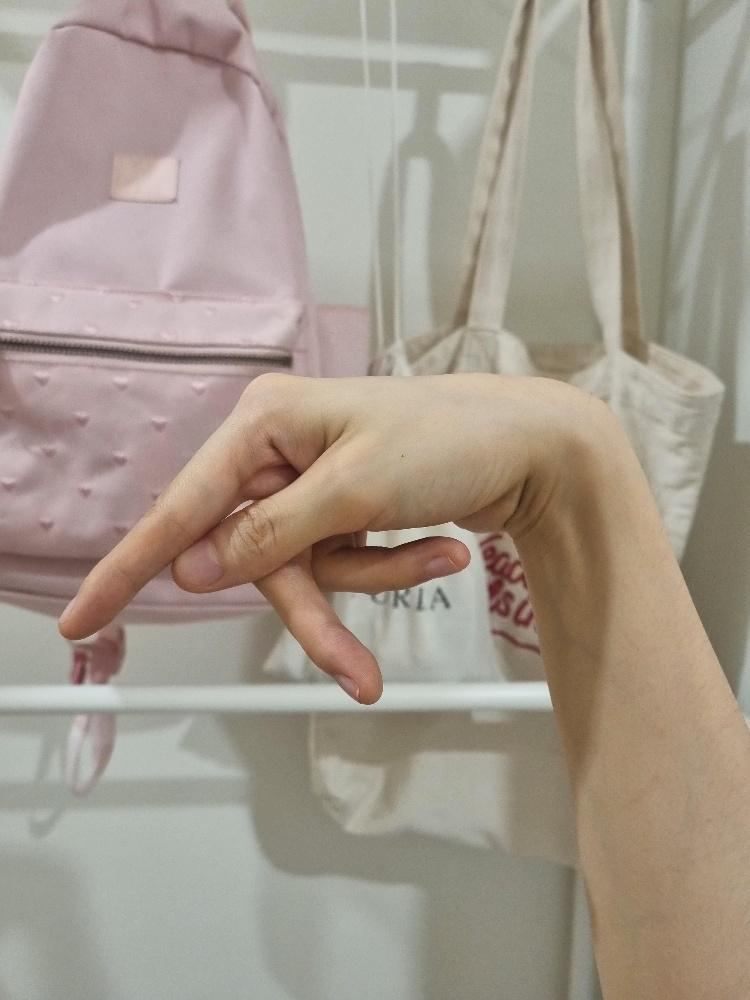p: (58, 368, 548, 707)
